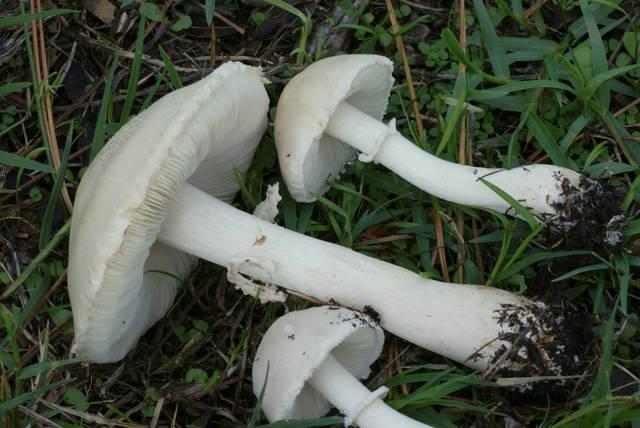Non-edible Mushroom: (65, 58, 593, 408), (272, 52, 605, 232), (250, 303, 434, 426)
